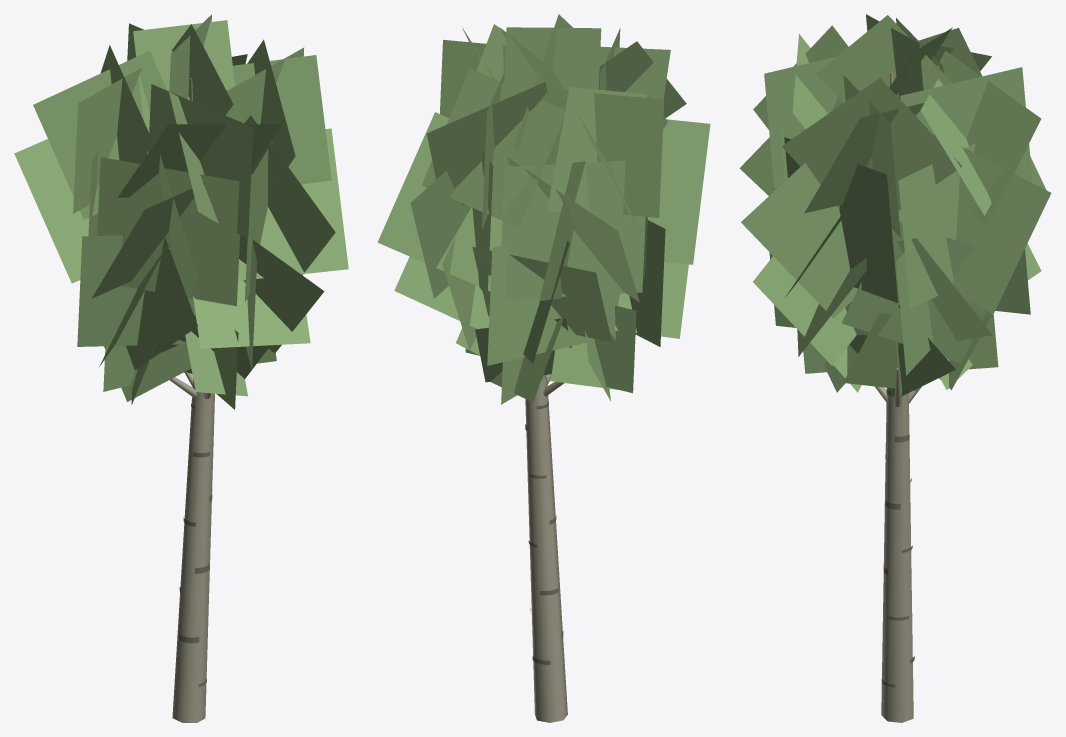
File: aspen.glb
The picture shows the model from 3 angles, left to right: view 1: azimuth 30°, elevation 25°; view 2: azimuth 150°, elevation 25°; view 3: azimuth 270°, elevation 25°; orthographic projection.
Visible parts, largest first — view 1: Foliage, aspen; view 2: Foliage, aspen; view 3: Foliage, aspen.
Boxes of the visible parts, bbox=[...] form: Foliage: bbox=[14, 14, 348, 409]; aspen: bbox=[169, 78, 214, 722]; Foliage: bbox=[377, 14, 710, 404]; aspen: bbox=[525, 374, 567, 722]; Foliage: bbox=[739, 14, 1051, 410]; aspen: bbox=[874, 72, 921, 722].
Size of the model in its own units: 3.44 by 9.52 by 3.85.
